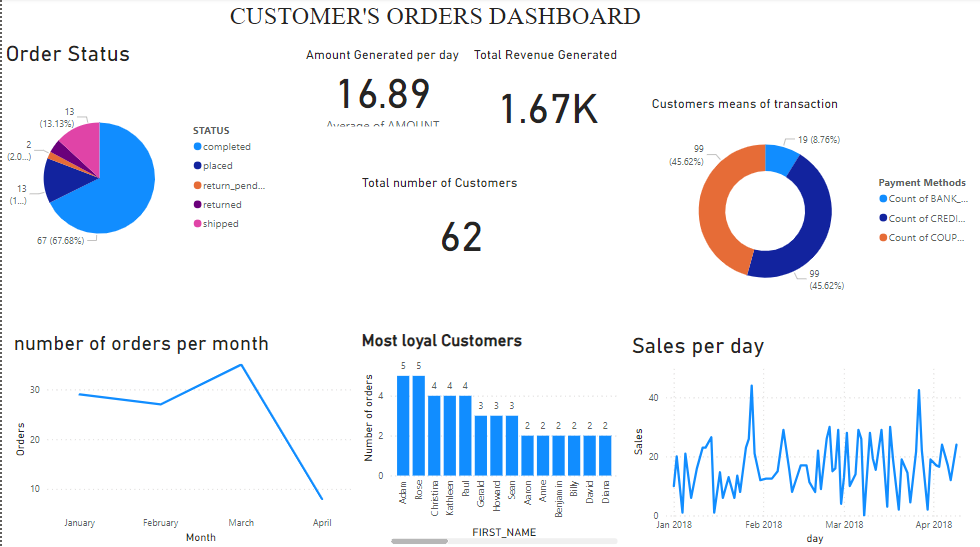

This screenshot's page, from the dashboard's own definition file:
{"tool":"powerbi","page":{"name":"Page 1","canvas":[1280,720],"ordinal":0},"visuals":[{"type":"pieChart","title":"Order Status","fields":{"Category":["ORDERS.STATUS","CUSTOMERS.MOST_RECENT_ORDER.Variation.Date Hierarchy.Year","CUSTOMERS.MOST_RECENT_ORDER.Variation.Date Hierarchy.Quarter","CUSTOMERS.MOST_RECENT_ORDER.Variation.Date Hierarchy.Month","CUSTOMERS.MOST_RECENT_ORDER.Variation.Date Hierarchy.Day"],"Y":["ORDERS.ORDER_ID"]},"box":[0,55,360,328.6],"z":0},{"type":"card","title":"Total Revenue Generated","fields":{"Values":["ORDERS.AMOUNT"]},"box":[612.7,64.1,202.9,128.3],"z":1000},{"type":"card","title":"Total number of Customers","fields":{"Values":["ORDERS.CUSTOMER_ID"]},"box":[466,231.7,269.7,128.3],"z":2000},{"type":"lineChart","title":"number of orders per month","fields":{"Y":["ORDERS.ORDER_ID"],"Category":["ORDERS.ORDER_DATE.Variation.Date Hierarchy.Month"]},"box":[10.7,436.2,455.9,282.5],"z":3000},{"type":"clusteredColumnChart","title":"Most loyal Customers","fields":{"Category":["CUSTOMERS.FIRST_NAME"],"Y":["ORDERS.ORDER_ID"]},"box":[466.6,436.2,345,284.2],"z":4000},{"type":"donutChart","title":"Customers means of transaction","fields":{"Y":["ORDERS.BANK_TRANSFER_AMOUNT","ORDERS.CREDIT_CARD_AMOUNT","ORDERS.COUPON_AMOUNT"]},"box":[845.3,128.2,434.9,282.2],"z":5000},{"type":"card","title":"Amount Generated per day","fields":{"Values":["ORDERS.AMOUNT"]},"box":[383.6,64.1,229.1,108.7],"z":6000},{"type":"lineChart","title":"Sales per day","fields":{"Category":["ORDERS.ORDER_DATE"],"Y":["ORDERS.AMOUNT"]},"box":[820,436.7,460,283.3],"z":7000},{"type":"textbox","box":[99.5,0,936,64.1],"z":8001}]}

Visuals, with their boxes in screenshot pixels (x1, y1, x2, y2), scaled from the page's 1280x720 canvas onto the 980x547 screenshot:
"Order Status" pieChart: bbox=[0, 42, 276, 291]
"Total Revenue Generated" card: bbox=[469, 49, 624, 146]
"Total number of Customers" card: bbox=[357, 176, 563, 274]
"number of orders per month" lineChart: bbox=[8, 331, 357, 546]
"Most loyal Customers" clusteredColumnChart: bbox=[357, 331, 621, 546]
"Customers means of transaction" donutChart: bbox=[647, 97, 979, 312]
"Amount Generated per day" card: bbox=[294, 49, 469, 131]
"Sales per day" lineChart: bbox=[628, 332, 979, 546]
textbox: bbox=[76, 0, 793, 49]
